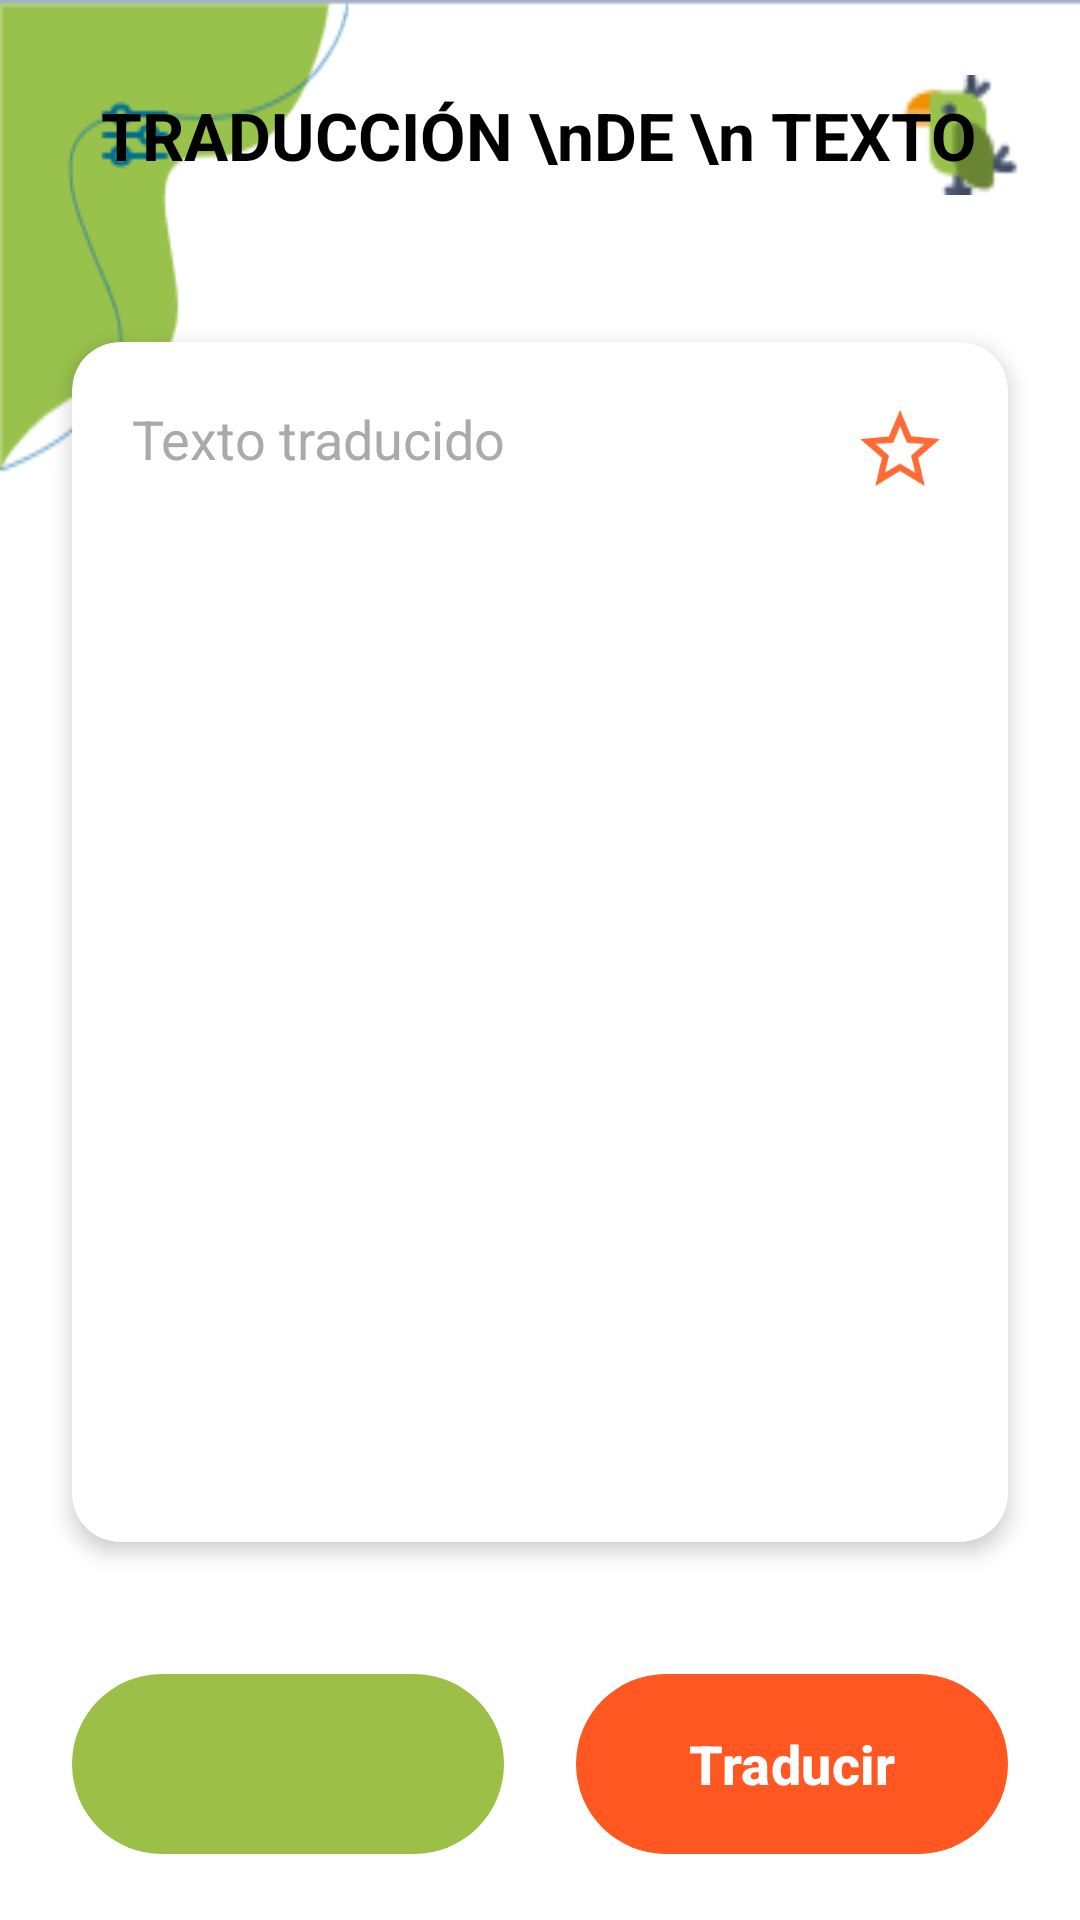

Point at icon controls on the screen. Image size 1080 × 1920, points as point (x, y).
Favorito: point (900, 448)
